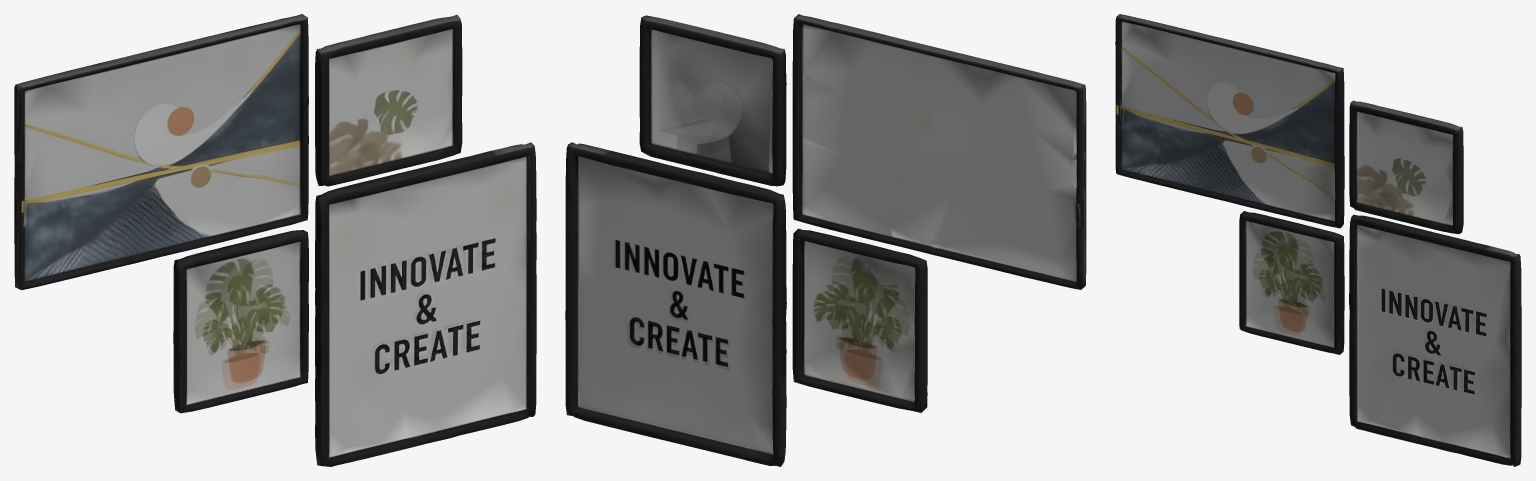
The model's file is tablo1.fbx.
The picture shows the model from 3 angles, left to right: view 1: azimuth 30°, elevation 25°; view 2: azimuth 150°, elevation 25°; view 3: azimuth 330°, elevation 25°; orthographic projection. The views are drawn at different scales.
Visible parts, largest first — view 1: Mesh_0; view 2: Mesh_0; view 3: Mesh_0.
Boxes of the visible parts, x1,y1,x2,y2 form: Mesh_0: [14, 14, 536, 466]; Mesh_0: [565, 14, 1086, 466]; Mesh_0: [1115, 14, 1521, 466].
Size of the model in its own units: 191 by 161 by 4.5.
1 material, 1 textured.
